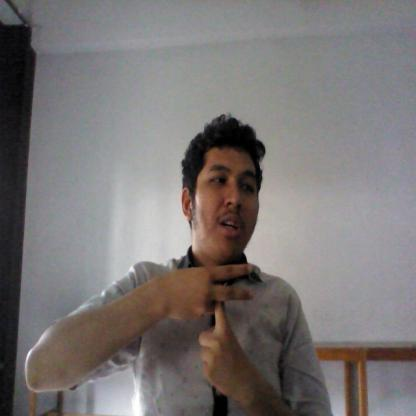F: (176, 260, 258, 395)
